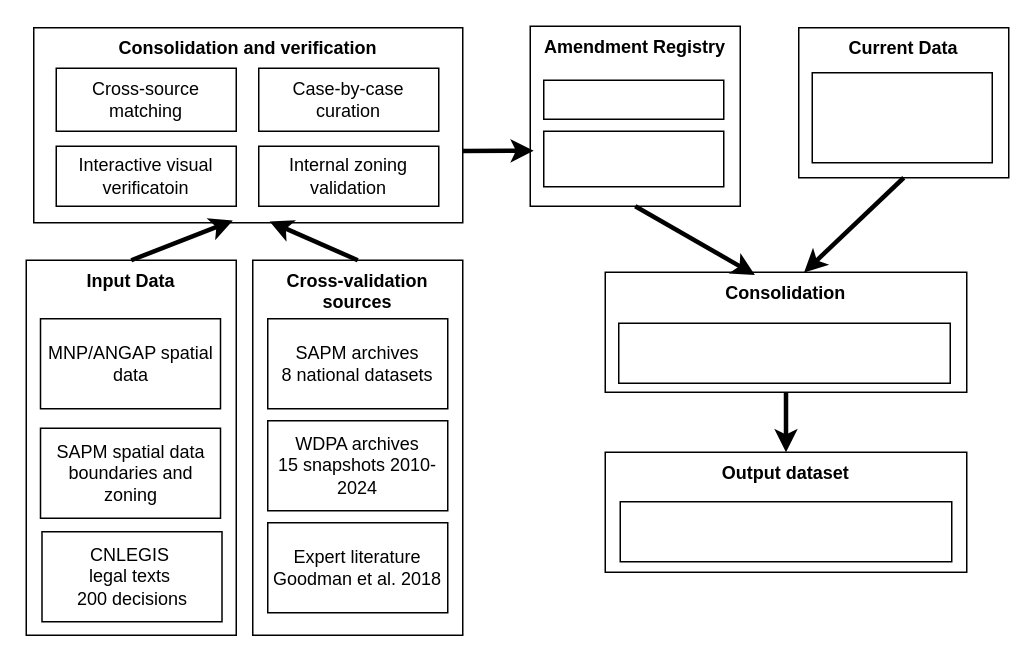
This 1035x662 diagram has some shape labels left out. Each missing label, with the centre of its shape:
Collection of R functions for combination and audit: the point at 783,352
GeoJSON geometries: the point at 633,158
Spatiotemporal states of PAs Geopackage and GeoParquet: the point at 785,531
WDPA Up-to-date version at generation time: the point at 901,117
YAML files: the point at 633,99
